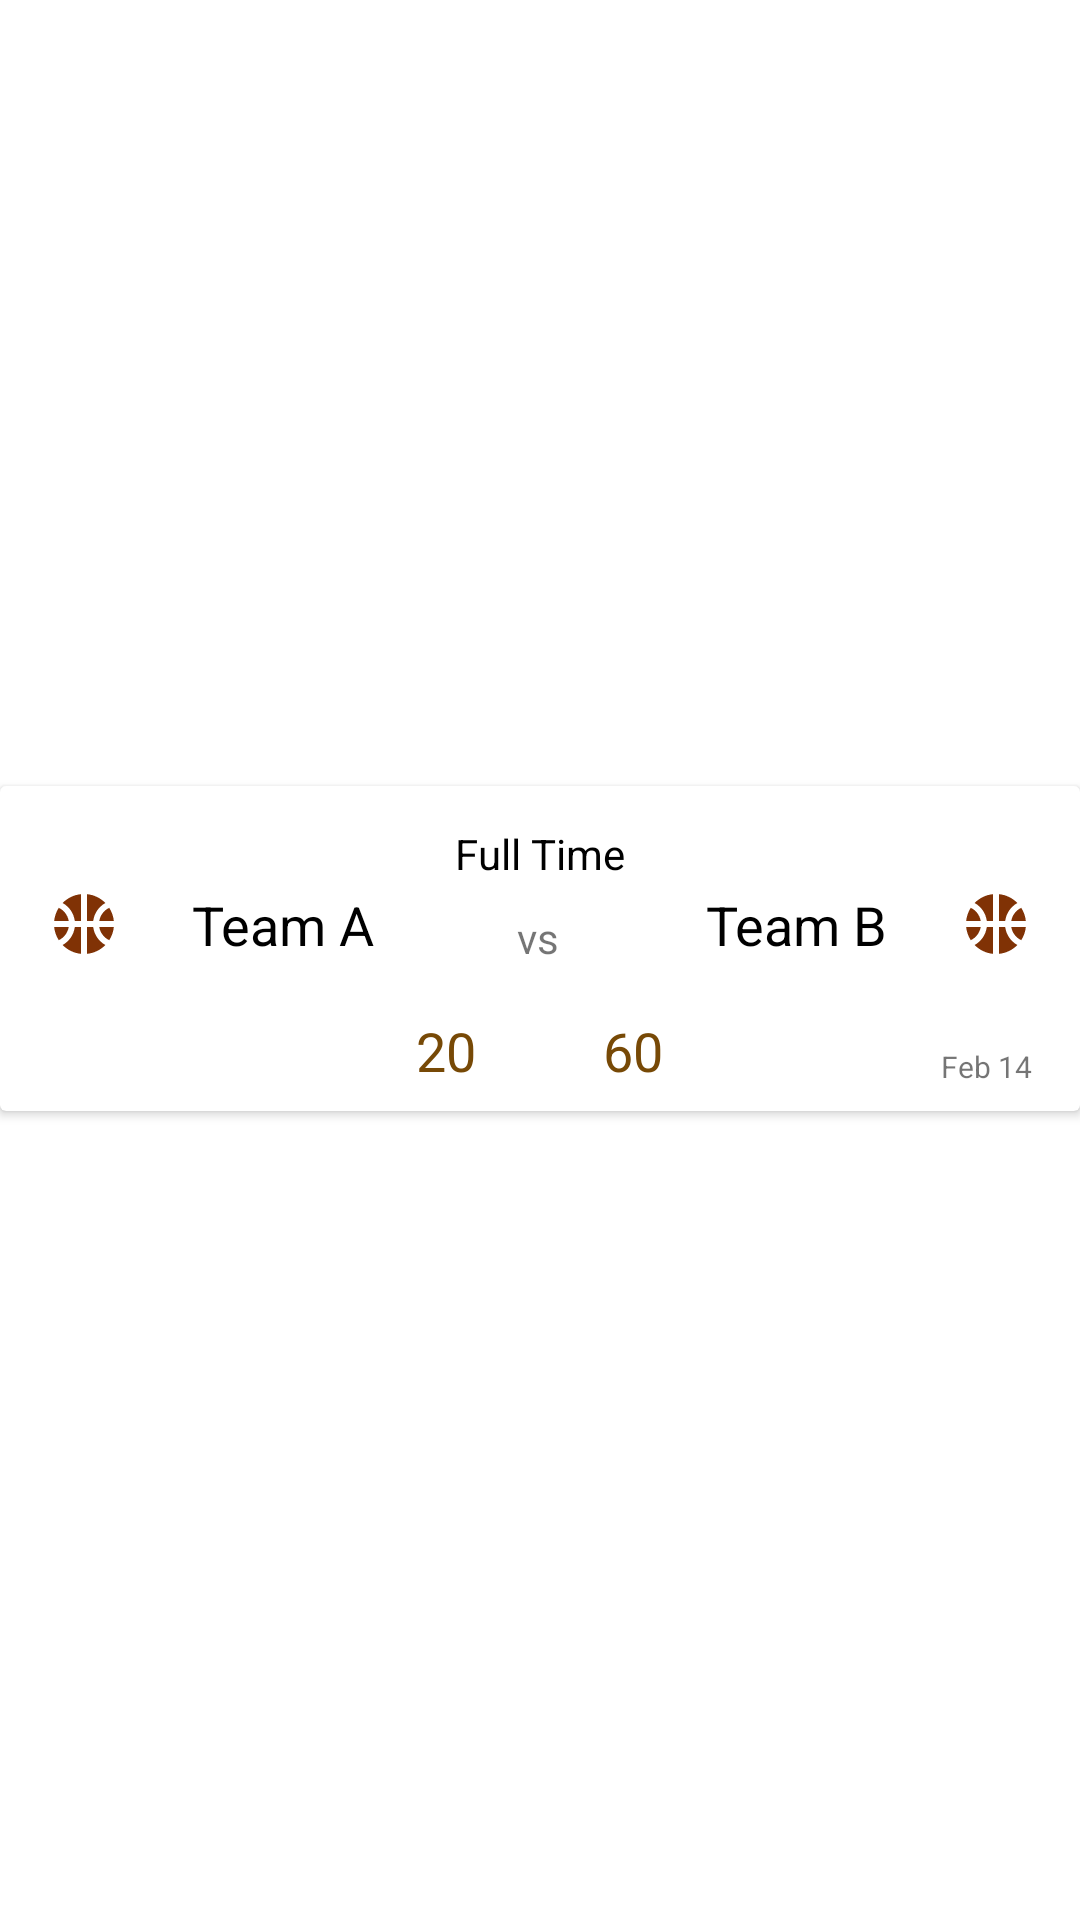

Icon bounding boxes for this 1080 × 1920 phone screenshot, format (x1, y1, x2, y2):
sports basketball: (54, 894, 114, 954), (966, 894, 1026, 954)
